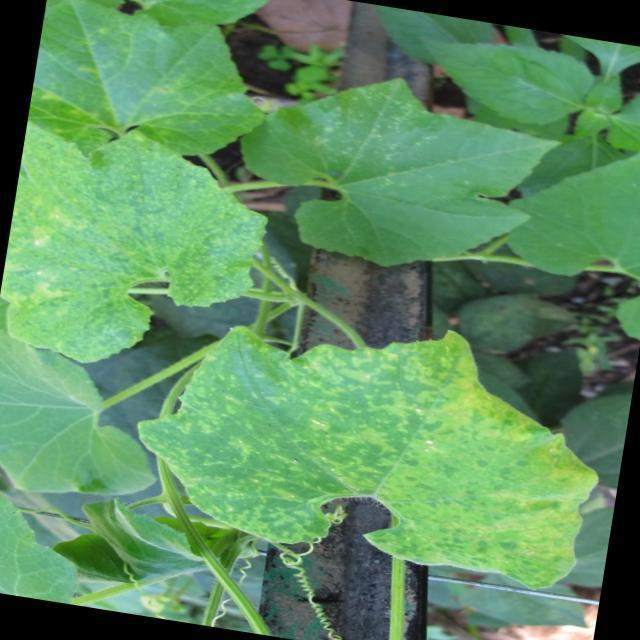Mosaic Virus: (149, 313, 595, 581)
